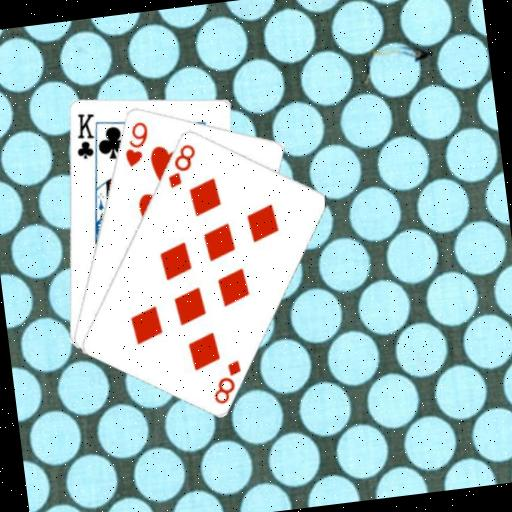8D: (206, 356, 247, 407), (161, 140, 201, 191)
9H: (118, 117, 154, 169)
KC: (69, 108, 106, 167)
